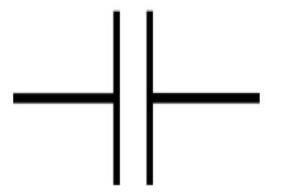Capacitor: (75, 8, 165, 181)
